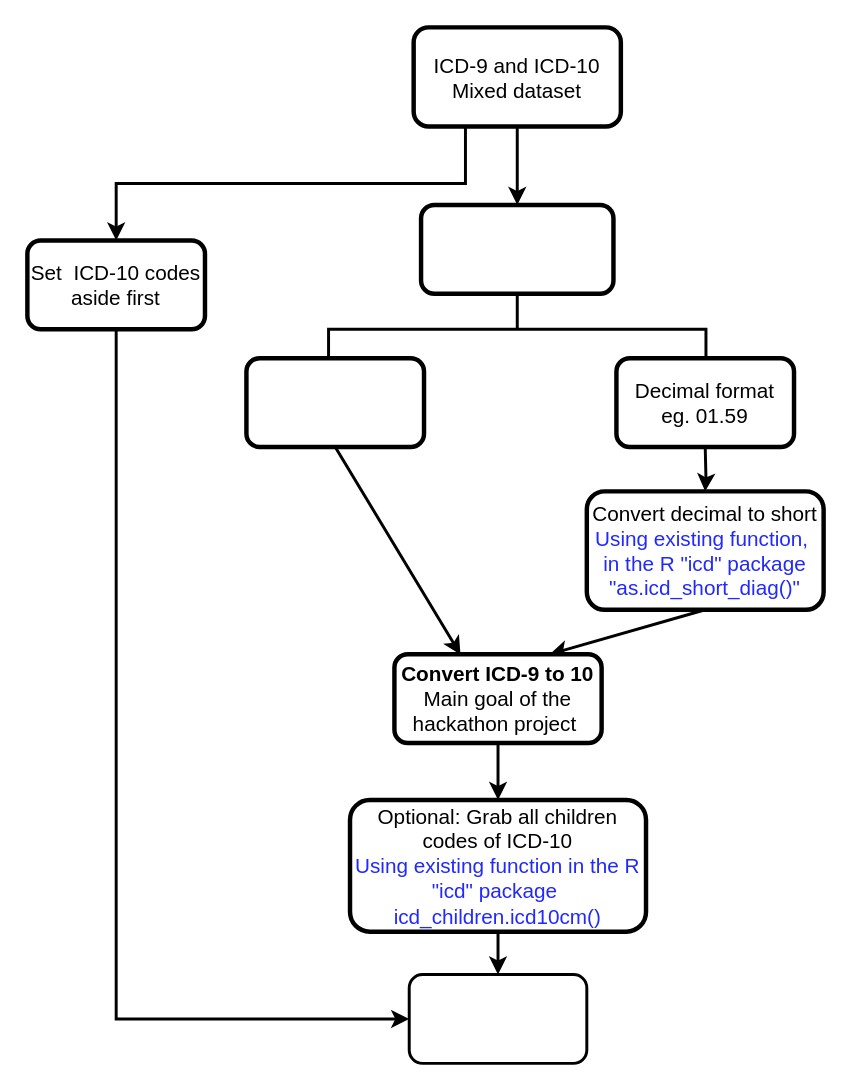
Image size: 851x1091. Some labels were removed from this diagram. The box of each missing label's shape, as (x1, y1, x2, y2) in pixels:
Append original ICD-10 codes: (407, 972, 588, 1064)
Short format eg. 0159: (243, 355, 426, 448)
Subset ICD-9 Diagnosis Codes: (418, 202, 615, 295)
